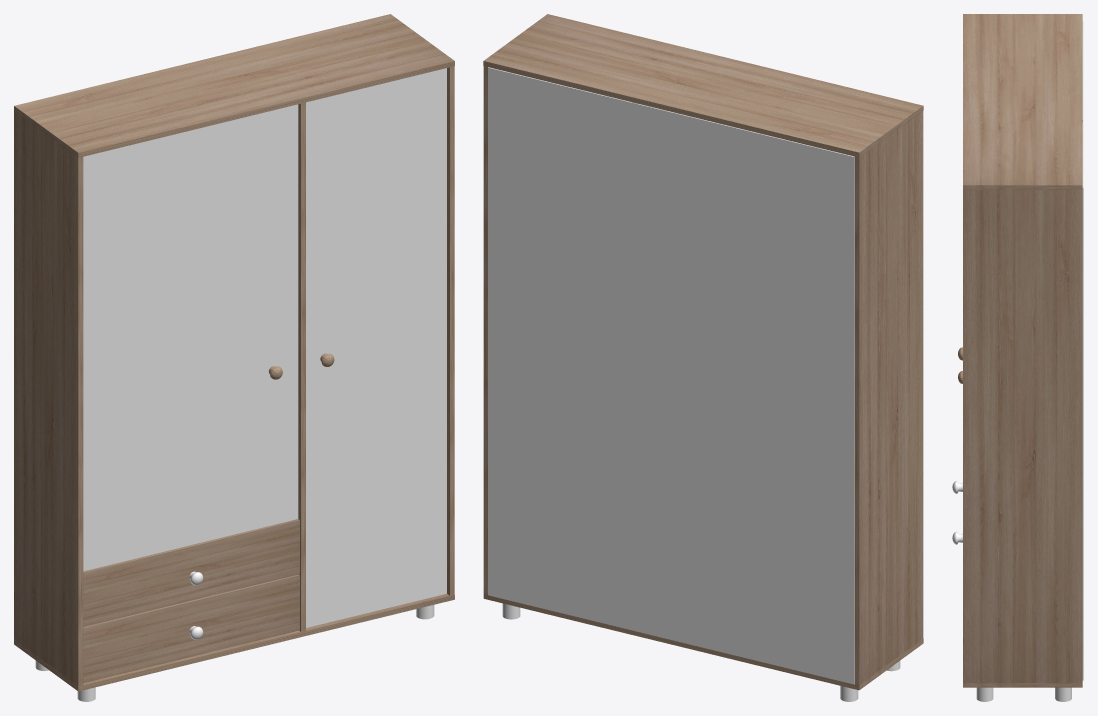
File: Wardrobe.FBX
3 views of the same model, side by side, from view 1: azimuth 30°, elevation 25°; view 2: azimuth 150°, elevation 25°; view 3: azimuth 270°, elevation 25° (orthographic). The views are drawn at different scales.
Visible parts, largest first — view 1: wardrobe; view 2: wardrobe; view 3: wardrobe.
Boxes of the visible parts, left/top/right/bottom form: wardrobe: left=14, top=14, right=454, bottom=701; wardrobe: left=483, top=14, right=923, bottom=701; wardrobe: left=952, top=14, right=1083, bottom=701.
Size of the model in its own units: 1474 by 477 by 2091.
2 materials, 1 textured.
